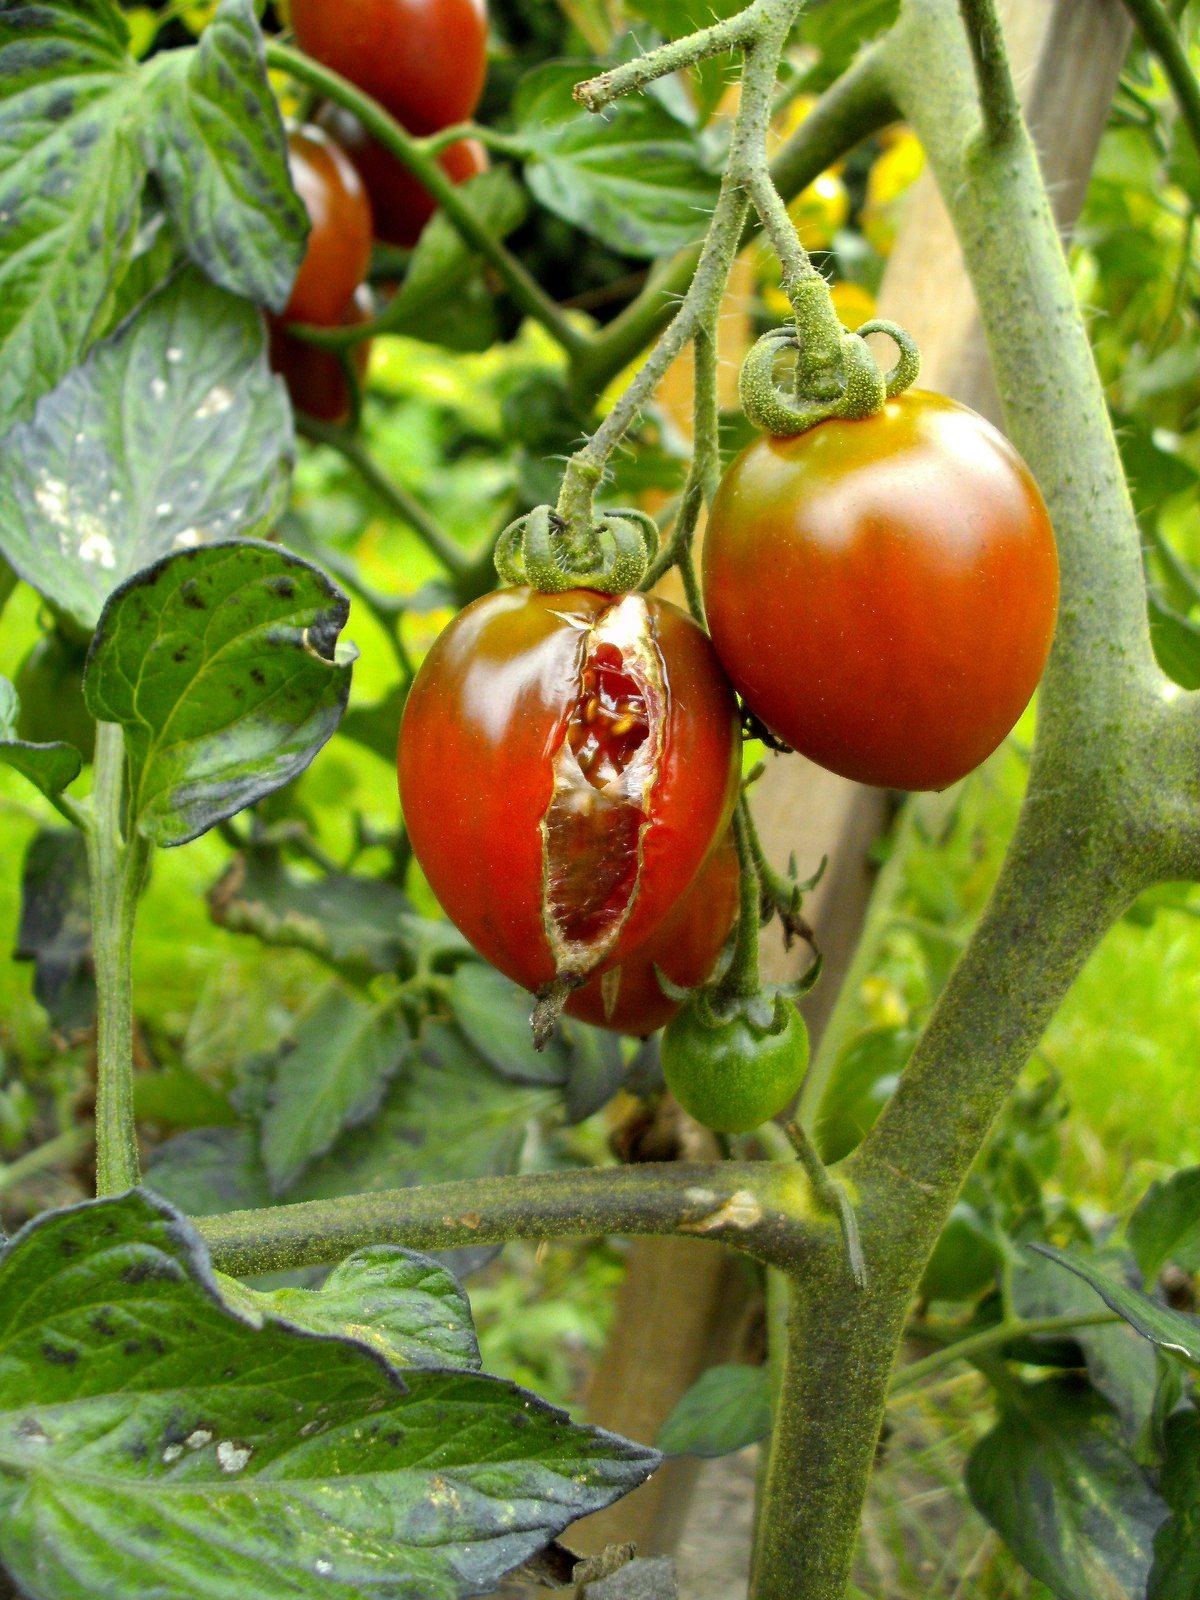tomato: (700, 323, 1061, 794), (395, 580, 742, 1034), (258, 0, 492, 430), (652, 94, 850, 451), (637, 246, 877, 522), (655, 810, 822, 1135), (287, 0, 490, 247), (597, 239, 759, 523), (558, 831, 741, 1036), (706, 81, 851, 325), (319, 105, 488, 247), (658, 983, 811, 1134), (637, 330, 754, 522), (266, 121, 373, 326), (652, 243, 758, 450), (595, 339, 698, 523), (747, 164, 850, 328), (266, 282, 374, 427), (654, 835, 741, 991), (766, 94, 850, 253), (858, 126, 925, 257), (758, 277, 879, 334), (783, 164, 850, 253), (652, 341, 700, 450), (824, 280, 879, 333)
